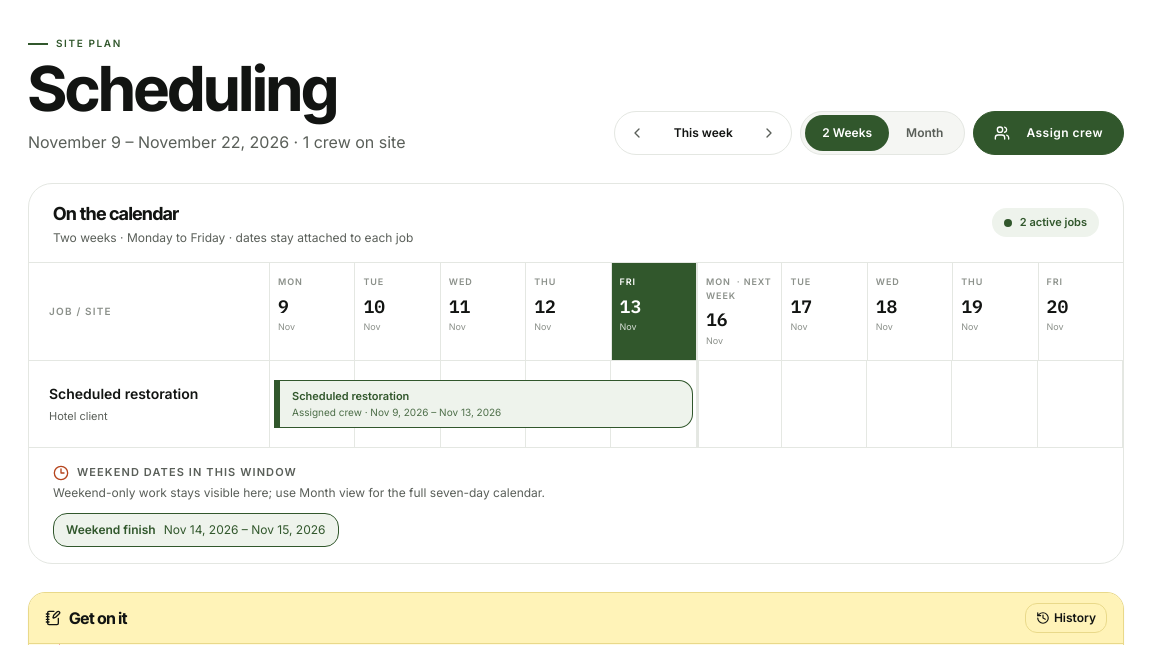
Scenario: Scheduling redesign › retains the full month calendar, weekends and monthly navigation
expect the link with test id "job-block-scheduled" is shown: met, box [274,380,692,428]
Click the button with test id "button-view-month". click: (925,133)
box: [889,115,960,151]
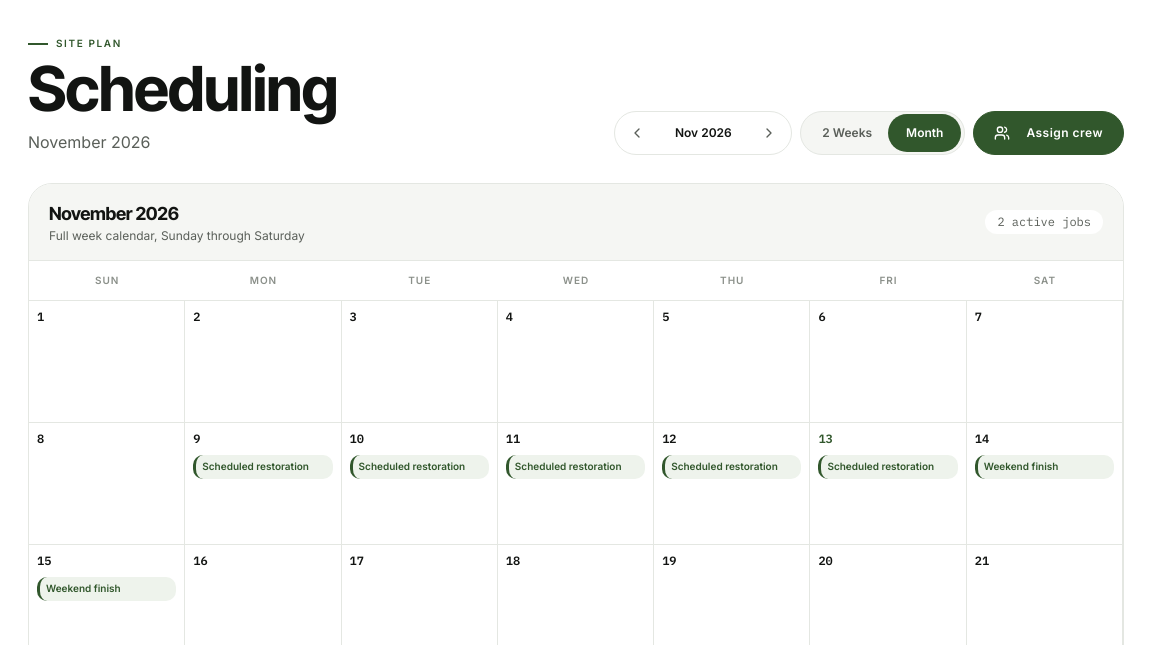
Click the button with test id "button-next-period". click: (769,133)
box: [751,115,787,151]
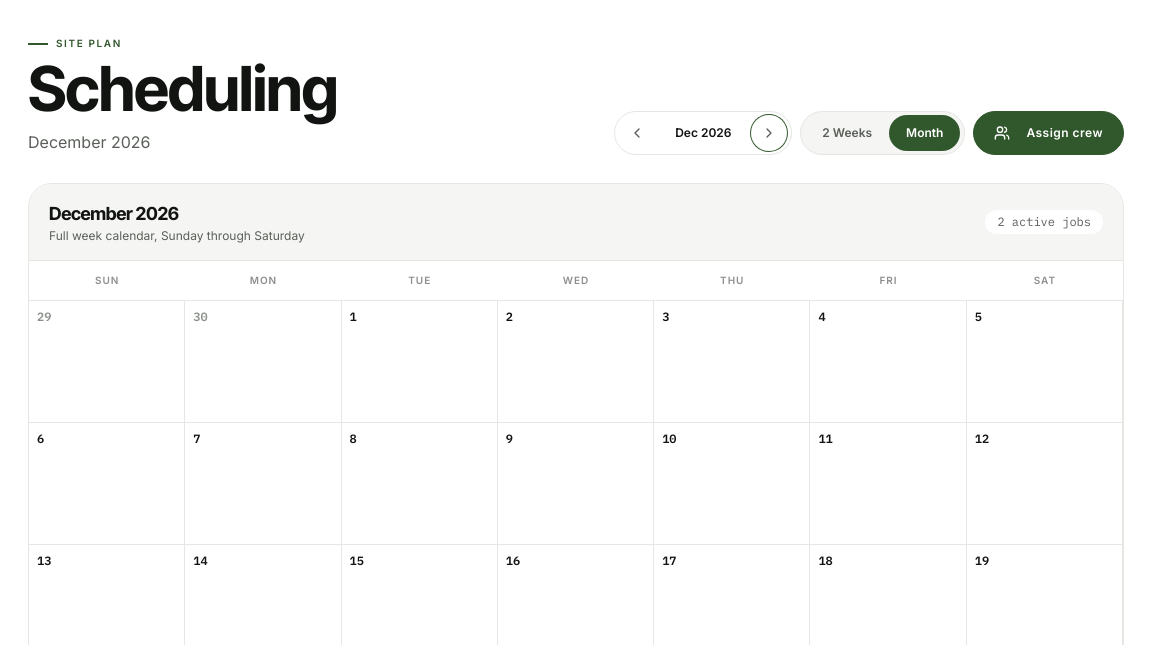
Click the button with test id "button-today". click: (703,133)
box: [655,115,751,151]
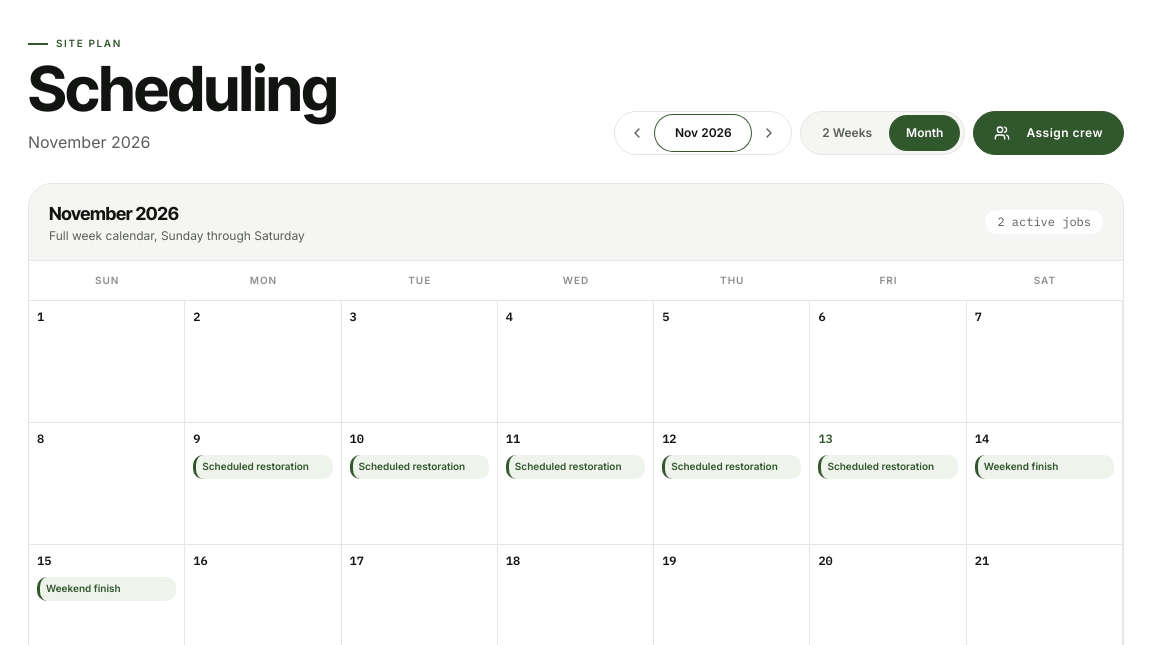
Click the button with test id "button-view-week". click: (847,133)
box: [805,115,889,151]
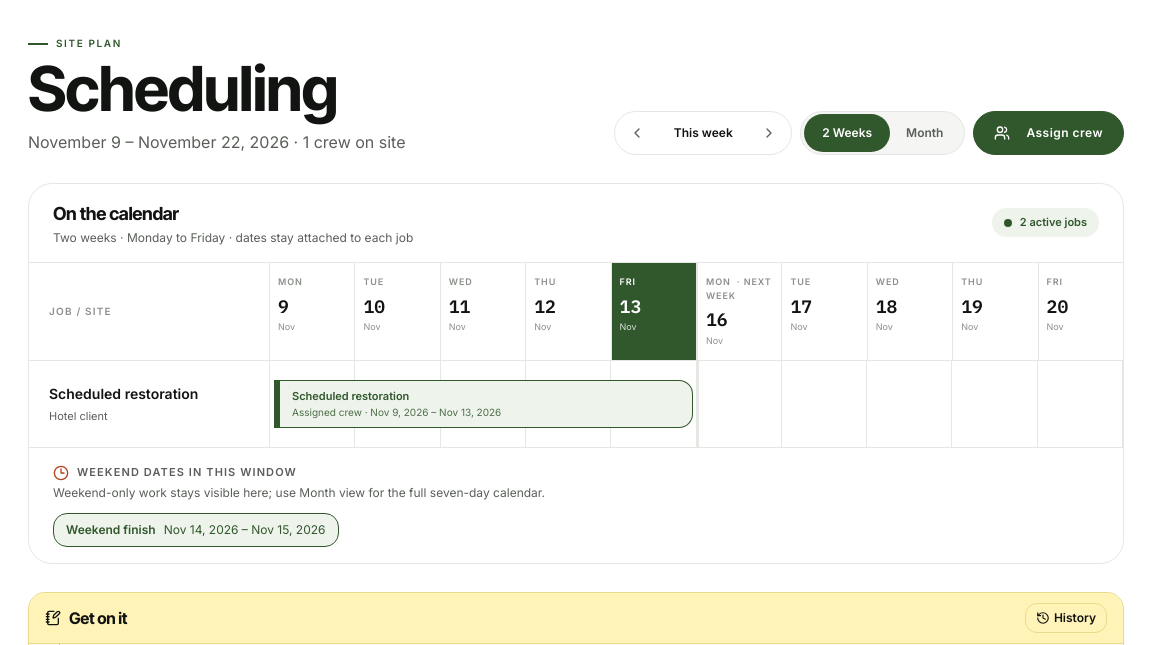
expect the link with test id "job-block-scheduled" is shown: met, box [274,380,692,428]
